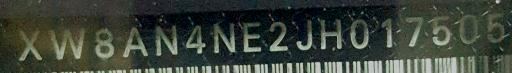letter: (48, 27, 88, 60), (14, 25, 44, 64), (264, 19, 292, 54), (152, 21, 180, 56), (210, 19, 236, 56), (402, 12, 426, 51), (347, 14, 371, 53), (240, 17, 264, 56), (318, 17, 344, 52), (182, 23, 208, 58), (122, 24, 148, 59), (92, 25, 116, 60), (484, 9, 506, 46), (457, 11, 479, 48), (430, 13, 452, 50), (294, 16, 314, 53), (378, 16, 394, 51)
